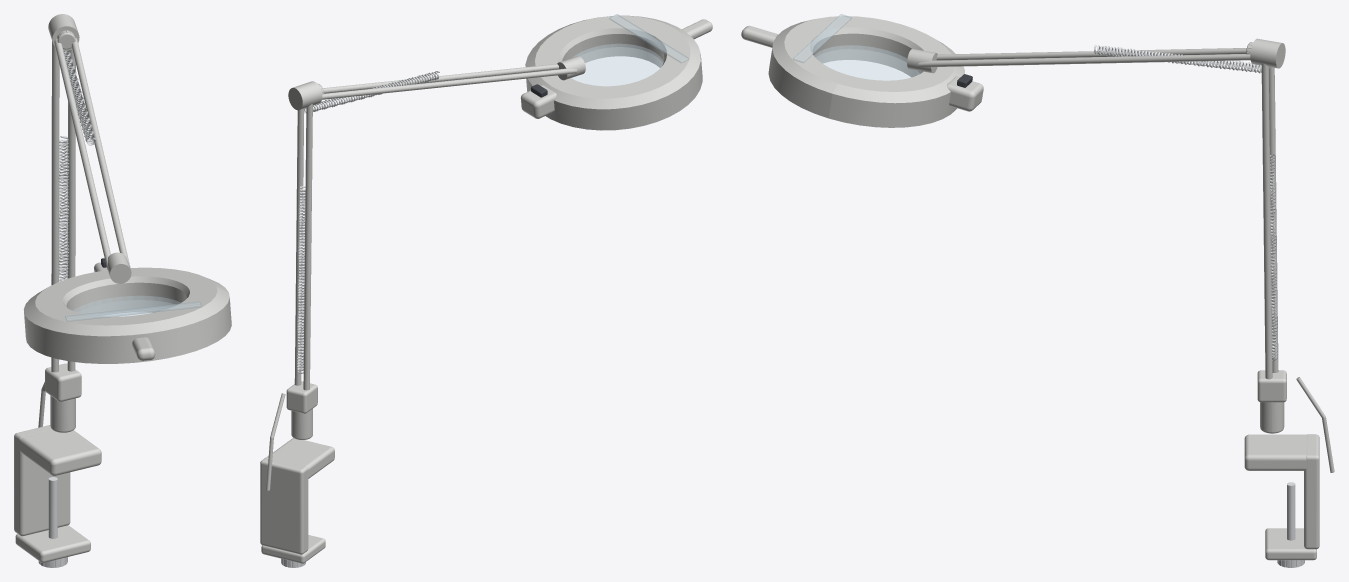
Rendered from magnifier-lamp.glb.
The picture shows the model from 3 angles, left to right: view 1: azimuth 30°, elevation 25°; view 2: azimuth 150°, elevation 25°; view 3: azimuth 270°, elevation 25°; orthographic projection. The views are drawn at different scales.
Visible parts, largest first — view 1: lamp_ring, lamp_clamp, arm_lower, arm_upper, arm_joint_base, lens, arm_spring_lower, lamp_cover, arm_spring_upper, arm_joint_elbow, lamp_clamp_screw, arm_joint_head (+1 smaller); view 2: lamp_ring, lamp_clamp, arm_lower, lens, arm_upper, arm_joint_base, arm_spring_lower, arm_spring_upper, lamp_cover, lamp_yoke, arm_joint_elbow; view 3: lamp_ring, lamp_clamp, arm_upper, arm_lower, lens, arm_joint_base, arm_spring_upper, arm_spring_lower, arm_joint_elbow, lamp_yoke, lamp_cover.
Part boxes in pixels (x1,y1,x2,y2): lamp_ring: [23, 267, 231, 363]; lamp_clamp: [14, 425, 101, 562]; arm_lower: [51, 41, 75, 372]; arm_upper: [54, 38, 130, 269]; arm_joint_base: [45, 363, 81, 432]; lens: [73, 295, 180, 316]; arm_spring_lower: [58, 136, 69, 281]; lamp_cover: [65, 301, 201, 321]; arm_spring_upper: [63, 50, 95, 145]; arm_joint_elbow: [48, 14, 79, 50]; lamp_clamp_screw: [38, 477, 67, 567]; arm_joint_head: [108, 252, 131, 283]; lamp_ring: [525, 15, 702, 130]; lamp_clamp: [260, 438, 334, 563]; arm_lower: [294, 104, 312, 390]; lens: [571, 43, 663, 86]; arm_upper: [322, 64, 576, 99]; arm_joint_base: [286, 381, 317, 439]; arm_spring_lower: [297, 186, 305, 374]; arm_spring_upper: [304, 71, 439, 112]; lamp_cover: [609, 14, 689, 62]; lamp_yoke: [520, 85, 556, 118]; arm_joint_elbow: [288, 81, 324, 110]; lamp_ring: [768, 16, 964, 127]; lamp_clamp: [1244, 434, 1319, 560]; arm_upper: [918, 48, 1250, 66]; arm_lower: [1261, 63, 1278, 379]; lens: [814, 45, 921, 80]; arm_joint_base: [1257, 370, 1286, 433]; arm_spring_upper: [1094, 44, 1269, 73]; arm_spring_lower: [1270, 154, 1277, 361]; arm_joint_elbow: [1246, 38, 1285, 68]; lamp_yoke: [947, 76, 983, 111]; lamp_cover: [793, 14, 851, 62].
Bounding box in the file's own units: 0.3348 × 0.6649 × 0.6883.
